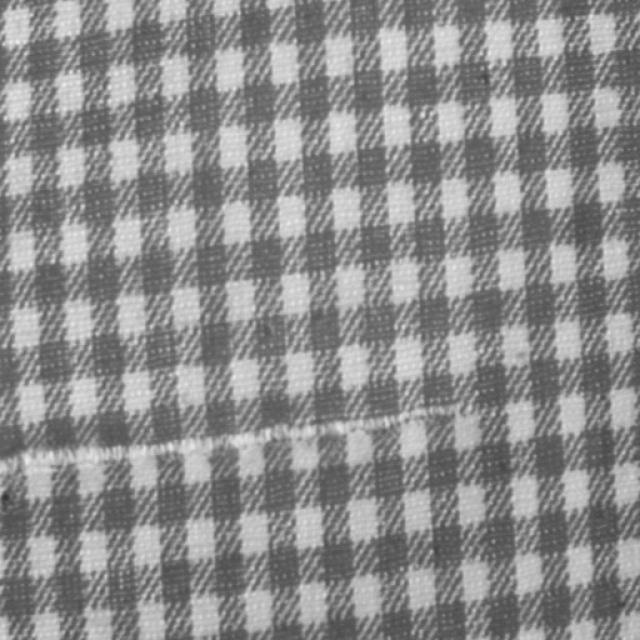Thread-Defect: (3, 398, 488, 474)
